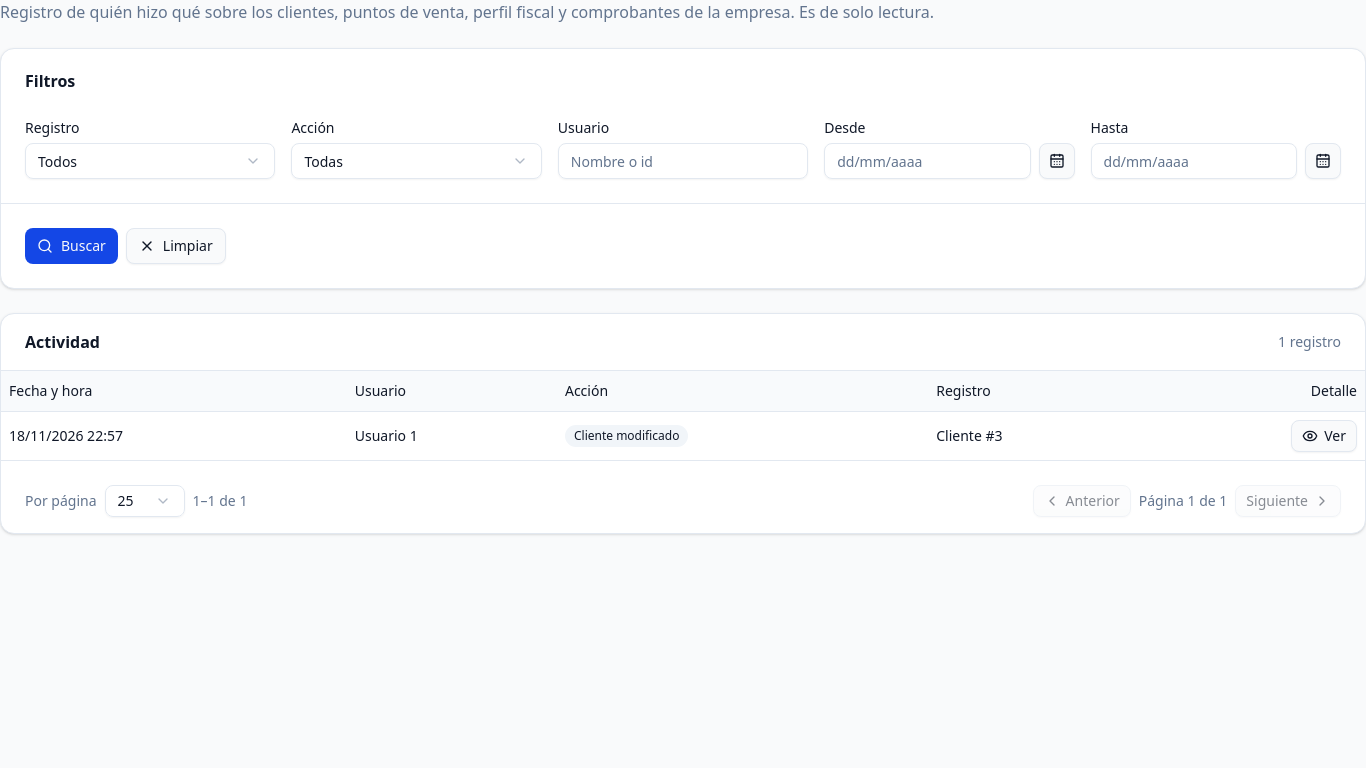
Test: AuditLog (auditoría) › muestra el antes y el después de una edición
Click the button "Ver".
click(1324, 436)  # box [1291, 420, 1357, 452]
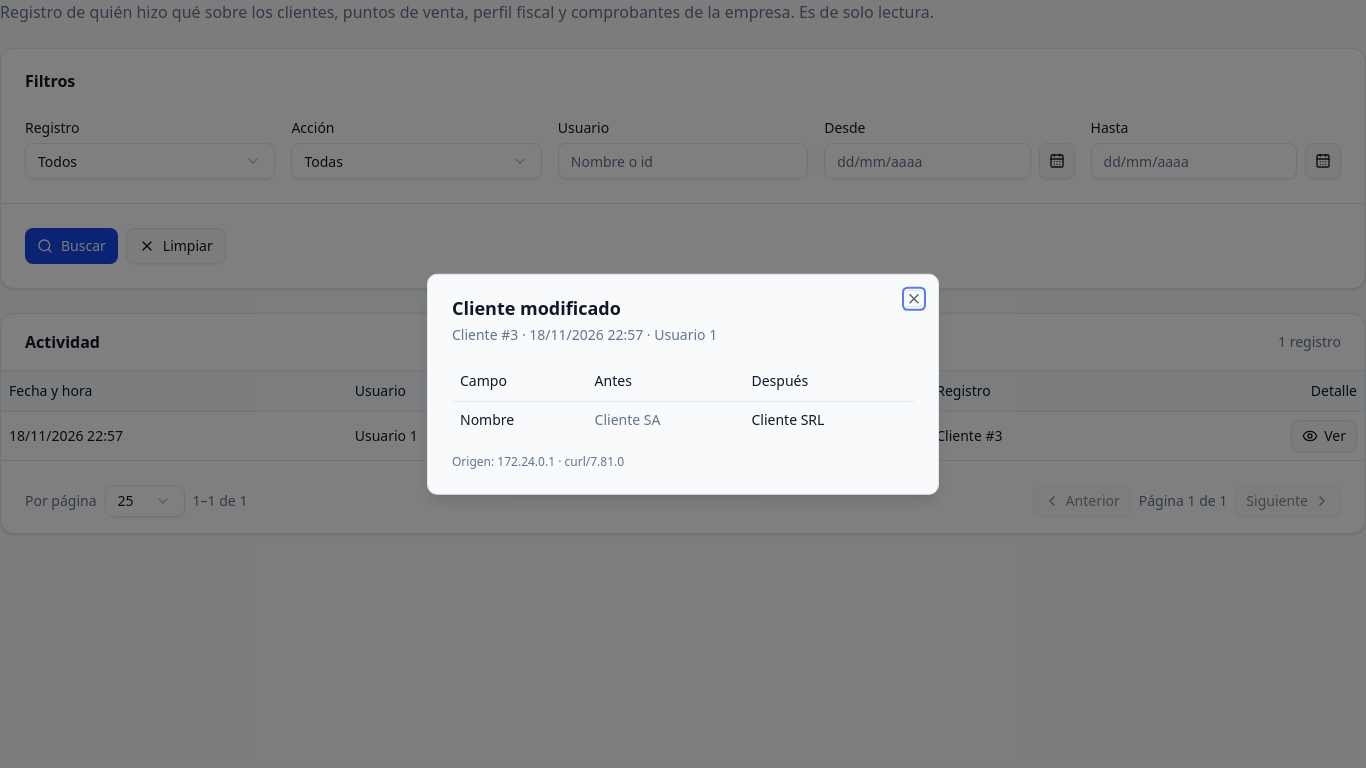
Expected: the heading "Cliente modificado" is shown, [452, 296, 621, 320]
Expected: the column heading "Antes" is shown, [587, 361, 744, 401]
Expected: the text "Cliente SA" is shown, [587, 401, 744, 437]
